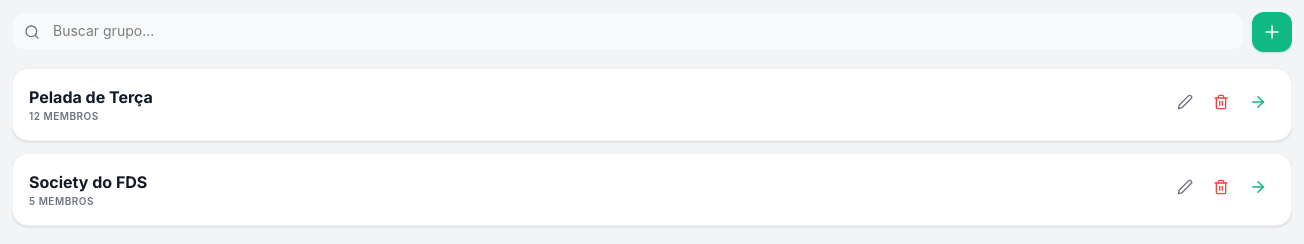
Test: GroupsTab Component › filters groups based on search input
This screenshot has width=1304, height=244.
Check: the heading "Pelada de Terça" is shown, box left=29, top=85, right=153, bottom=109
Check: the heading "Society do FDS" is shown, box left=29, top=170, right=147, bottom=194
Type "Terça" into the field with placeholder "Buscar grupo...". click: [628, 31]
box: left=12, top=12, right=1244, bottom=50
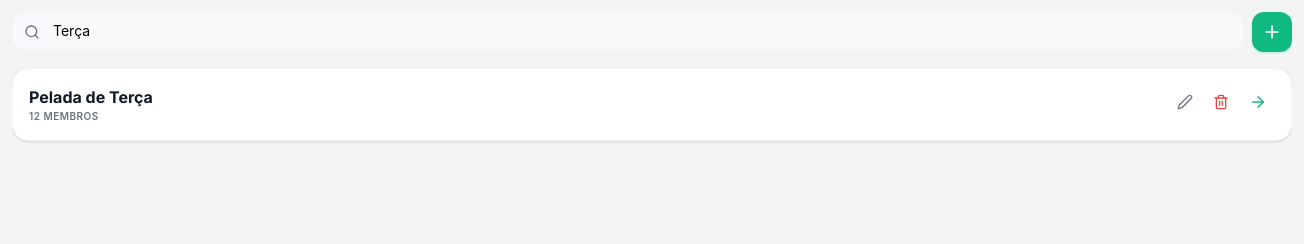
Check: the heading "Pelada de Terça" is shown, box left=29, top=85, right=153, bottom=109
Check: the heading "Society do FDS" is gone
